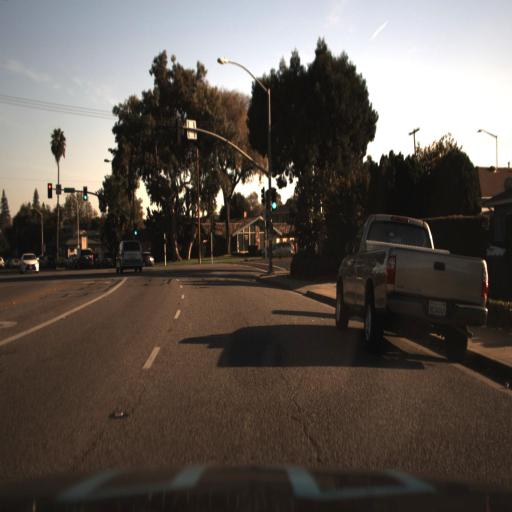car: (327, 202, 501, 381), (13, 235, 45, 286), (66, 245, 97, 281), (115, 235, 143, 272), (15, 248, 44, 278), (71, 247, 95, 271), (271, 240, 295, 259), (142, 247, 156, 270)
trafficLight-Green: (270, 184, 278, 212), (270, 195, 280, 213), (131, 224, 139, 244), (81, 185, 89, 203), (82, 187, 89, 206), (132, 226, 139, 242)
trafficLight-Red: (45, 179, 54, 205)
trafficLight-RedLeft: (45, 182, 53, 201)
